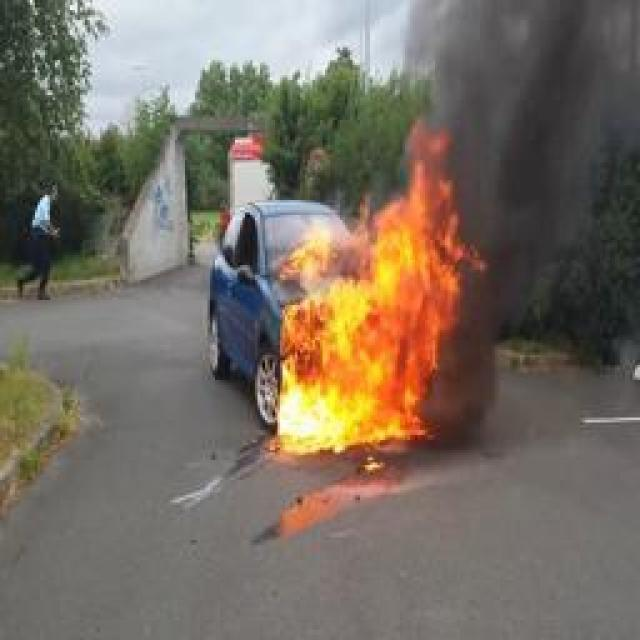Fire: (278, 119, 490, 449)
